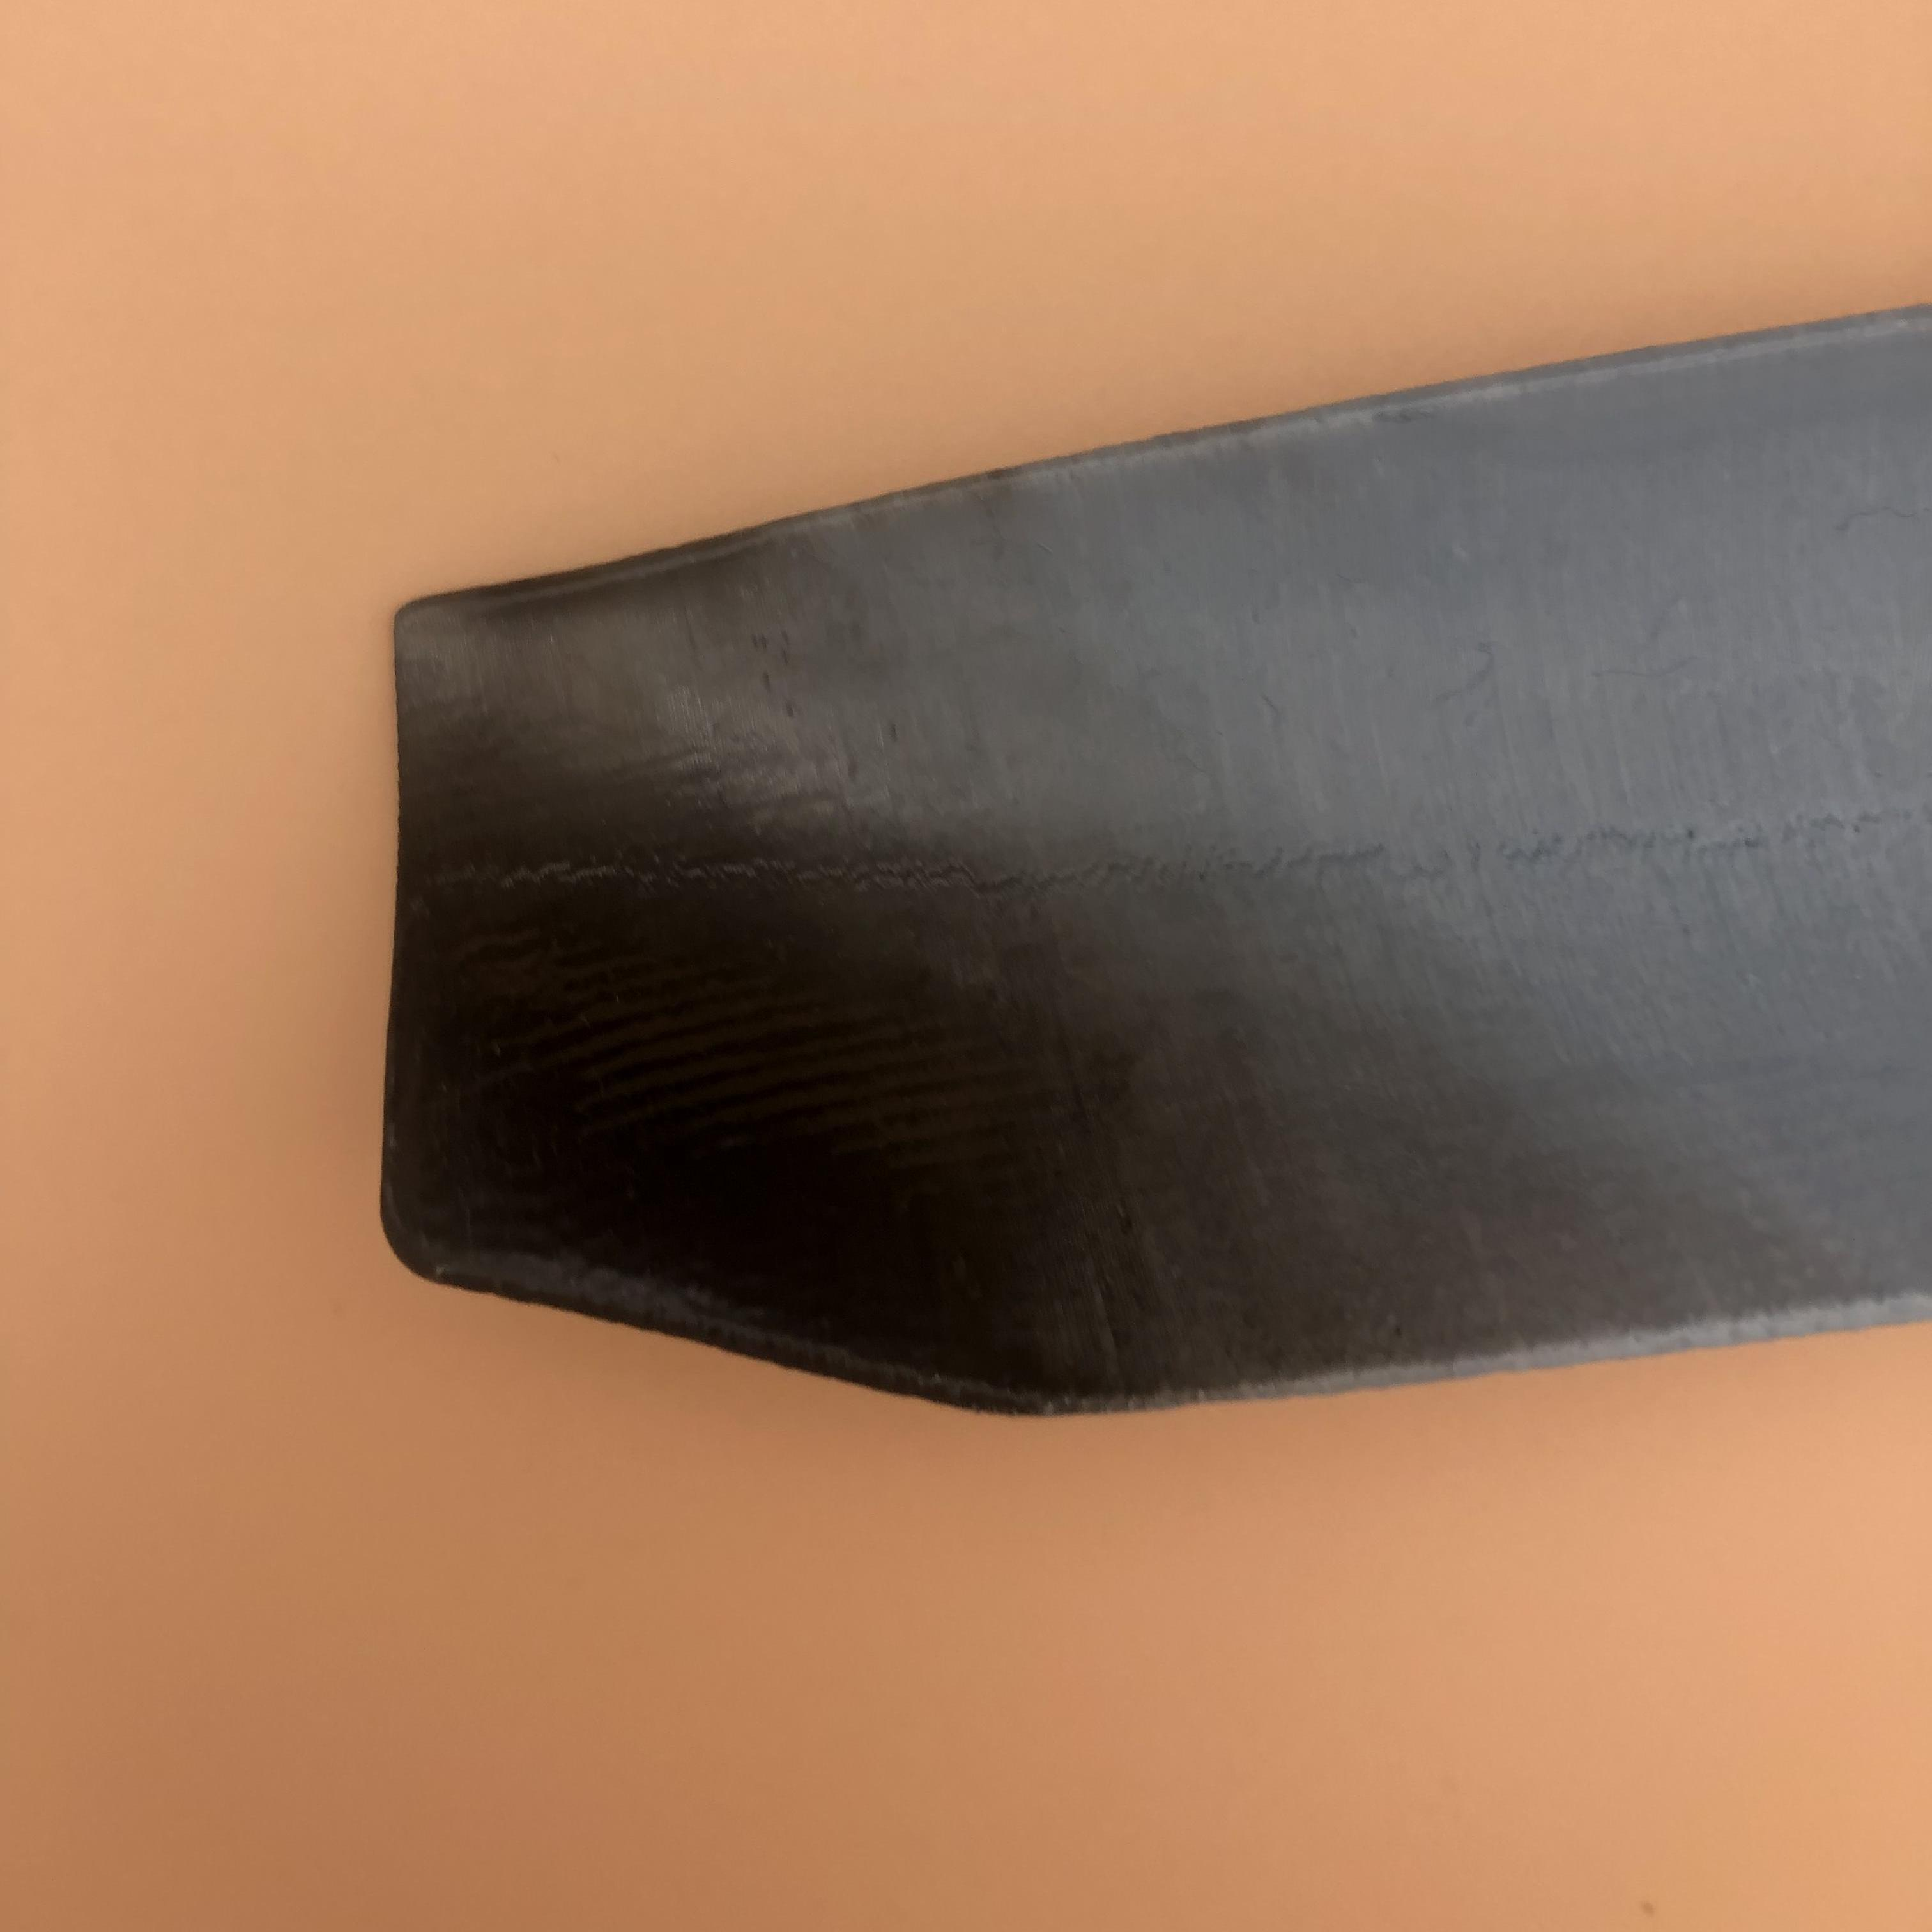ablation: (398, 605, 1302, 1412)
